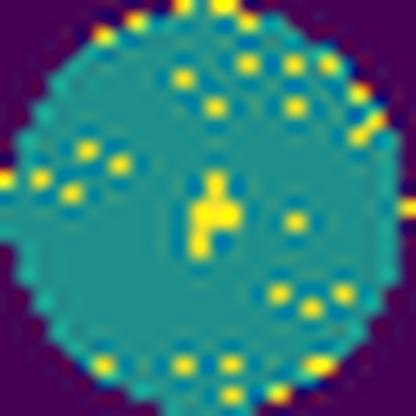Center: (191, 169, 245, 264)
